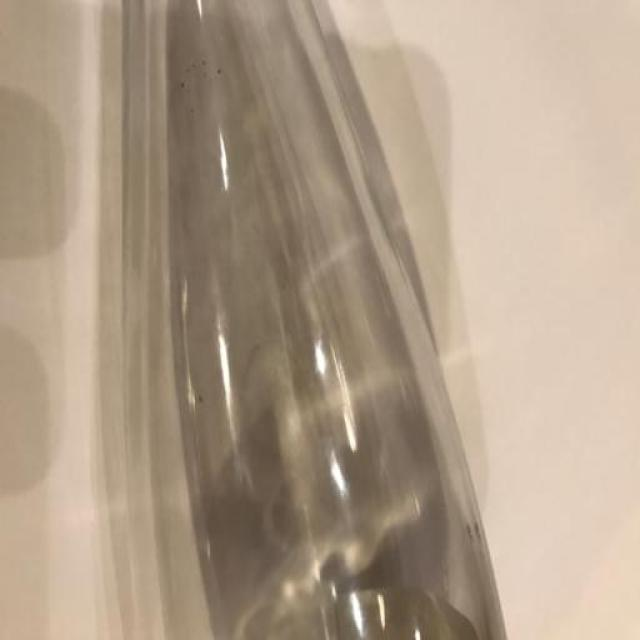glass: (92, 0, 528, 637)
